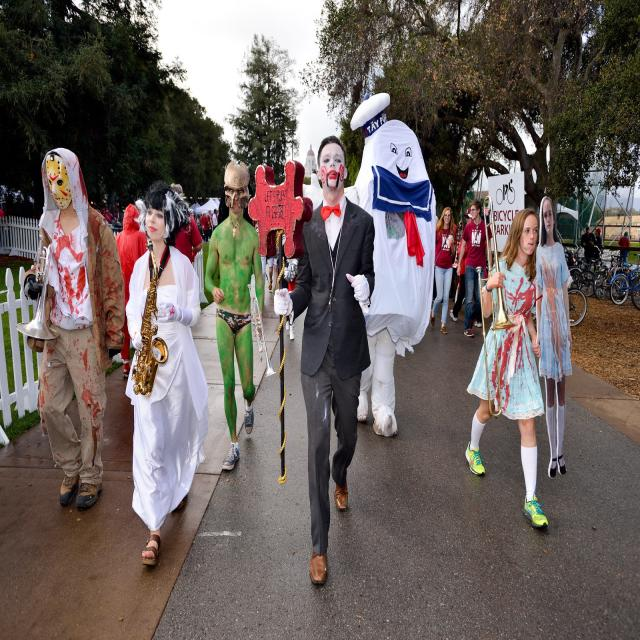body: (272, 132, 378, 594), (15, 144, 126, 519), (334, 89, 439, 444), (124, 185, 210, 569), (460, 190, 552, 536), (203, 159, 265, 473), (530, 194, 573, 480), (114, 202, 150, 379), (454, 198, 494, 339), (448, 206, 484, 328), (428, 206, 458, 336), (170, 183, 203, 264), (266, 228, 280, 296), (95, 202, 126, 232), (254, 219, 266, 287), (580, 225, 598, 266), (618, 230, 630, 264), (202, 210, 210, 244), (206, 208, 214, 238), (200, 212, 206, 242), (595, 227, 602, 250), (212, 208, 218, 231), (210, 211, 219, 220), (196, 215, 201, 230)
